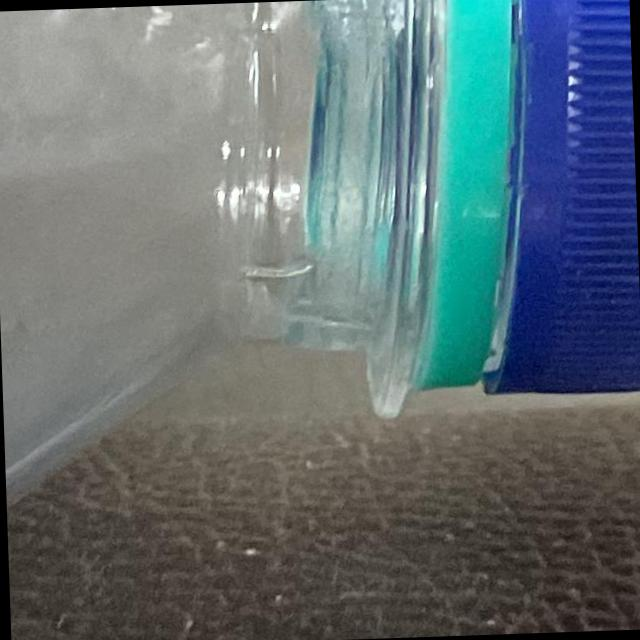Good-cap-Df0S: (387, 0, 640, 456)
